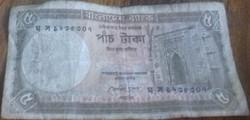5 taka: (13, 8, 236, 109)
